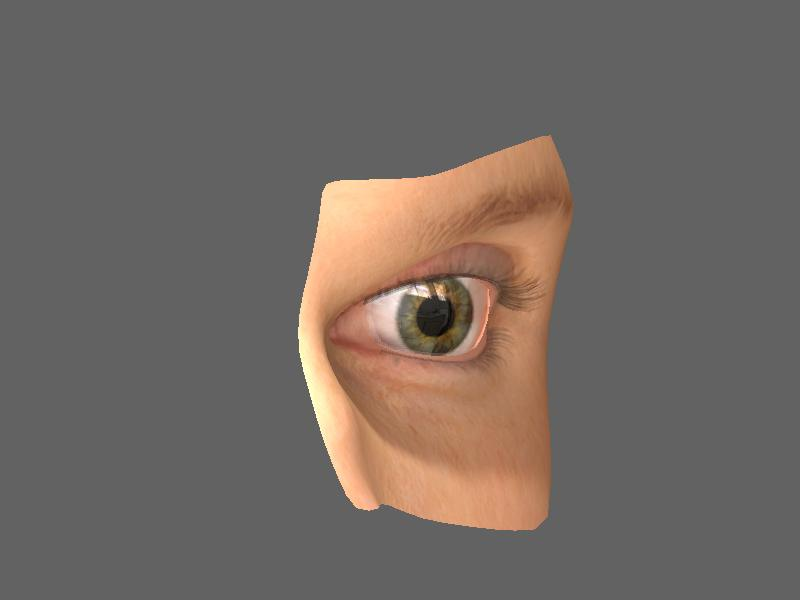iris: (391, 279, 478, 359)
